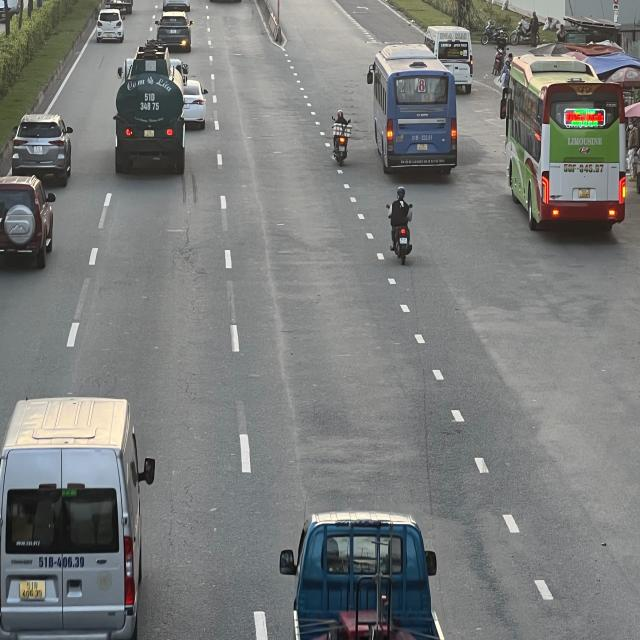car: (0, 174, 54, 265), (9, 114, 72, 184), (180, 78, 208, 129), (95, 9, 126, 43)
coach: (502, 53, 628, 229), (367, 42, 455, 171)
container: (113, 48, 187, 174)
van: (0, 398, 150, 640), (427, 26, 473, 94)
